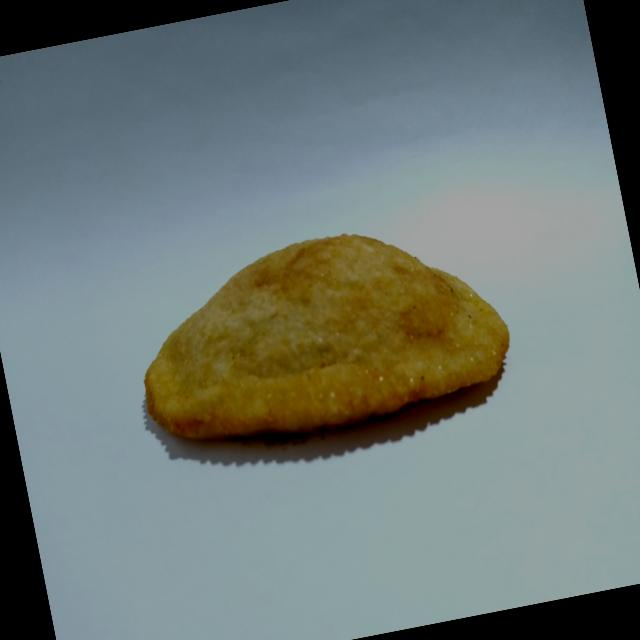Pastel_Mandio: (109, 193, 532, 485)
